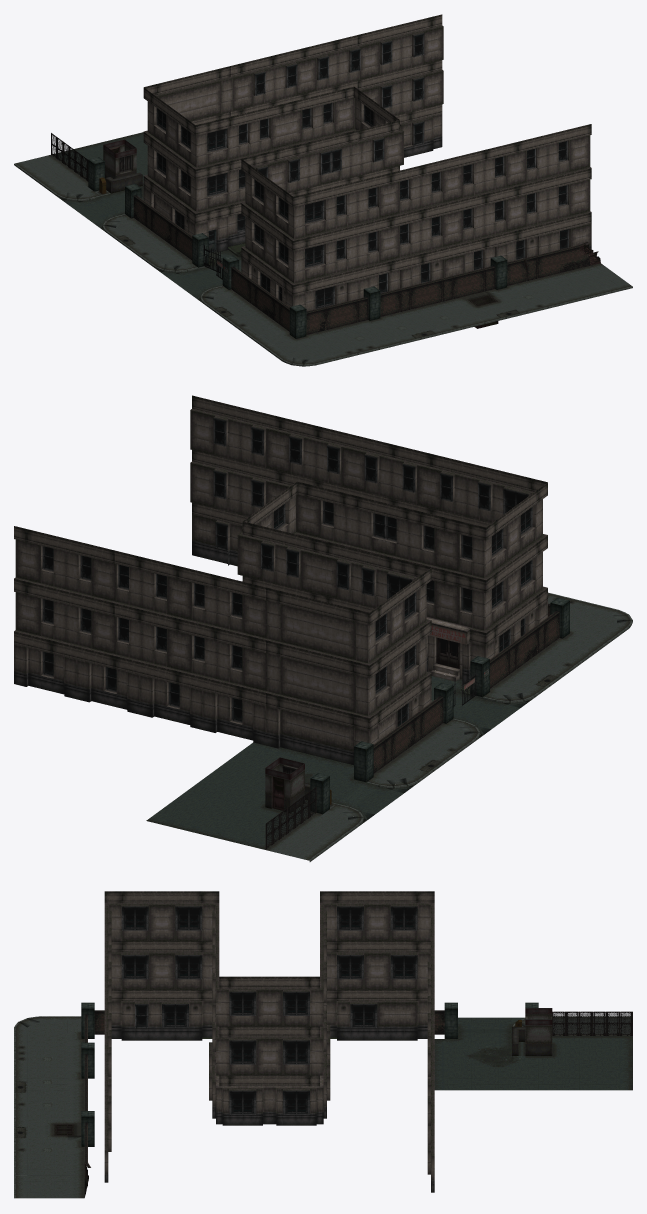
Rendered from SH_BUILDING_15.obj.
3 renders of one model, top to bottom at view 1: azimuth 30°, elevation 25°; view 2: azimuth 150°, elevation 25°; view 3: azimuth 270°, elevation 25°, orthographic. The views are drawn at different scales.
Parts seen in each view (by area): view 1: Default; view 2: Default; view 3: Default.
Part boxes in pixels (x1=…): Default: x1=14, y1=14, x2=632, y2=366; Default: x1=14, y1=395, x2=632, y2=861; Default: x1=14, y1=891, x2=632, y2=1198.
Bounding box in the file's own units: 32 × 14 × 46.
Materials: 4 (4 with a texture image).
